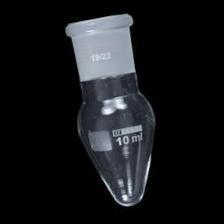Pear shaped flask: (52, 16, 163, 205)
